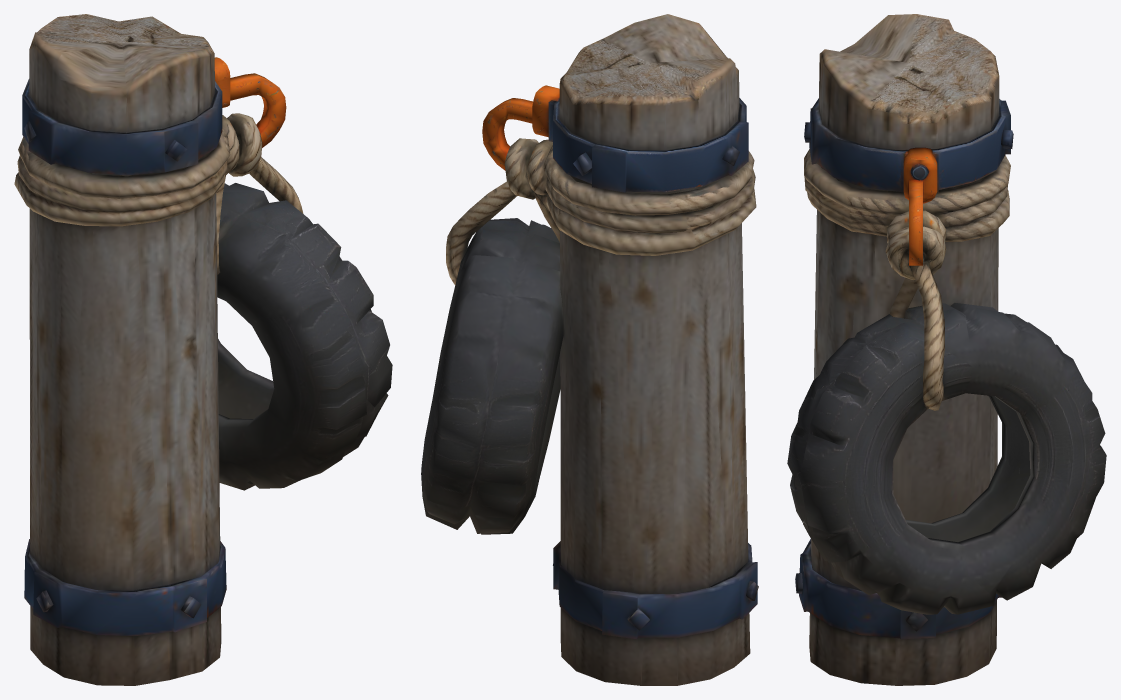
Rendered from 07-piling-fender.glb.
3 renders of one model, left to right at view 1: azimuth 30°, elevation 25°; view 2: azimuth 150°, elevation 25°; view 3: azimuth 270°, elevation 25°, orthographic. The views are drawn at different scales.
Visible parts, largest first — view 1: tripo_node_10edaeee-abf1-4115-9e87-d5a3aabf77a0; view 2: tripo_node_10edaeee-abf1-4115-9e87-d5a3aabf77a0; view 3: tripo_node_10edaeee-abf1-4115-9e87-d5a3aabf77a0.
Boxes of the visible parts, left/top/right/bottom form: tripo_node_10edaeee-abf1-4115-9e87-d5a3aabf77a0: left=14, top=14, right=392, bottom=685; tripo_node_10edaeee-abf1-4115-9e87-d5a3aabf77a0: left=421, top=14, right=758, bottom=685; tripo_node_10edaeee-abf1-4115-9e87-d5a3aabf77a0: left=787, top=14, right=1106, bottom=685.
Bounding box in the file's own units: 0.6599 × 1.2 × 0.58.
Materials: 1 (1 with a texture image).
